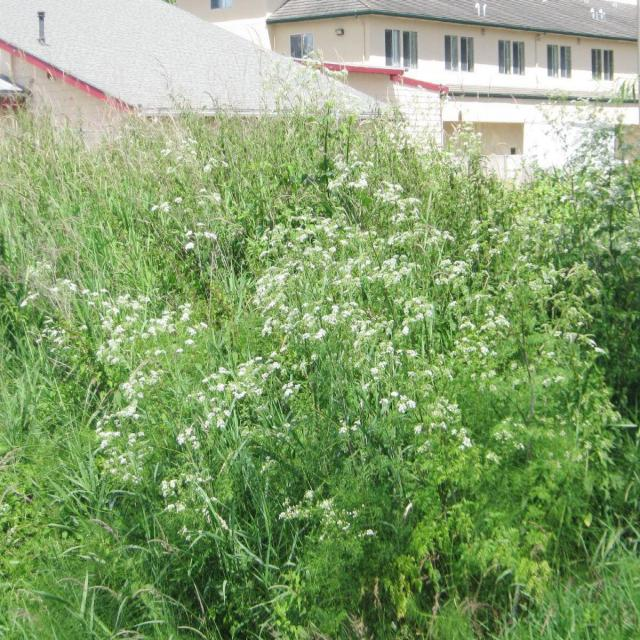Poisonous-Hemlock: (15, 188, 640, 637)
